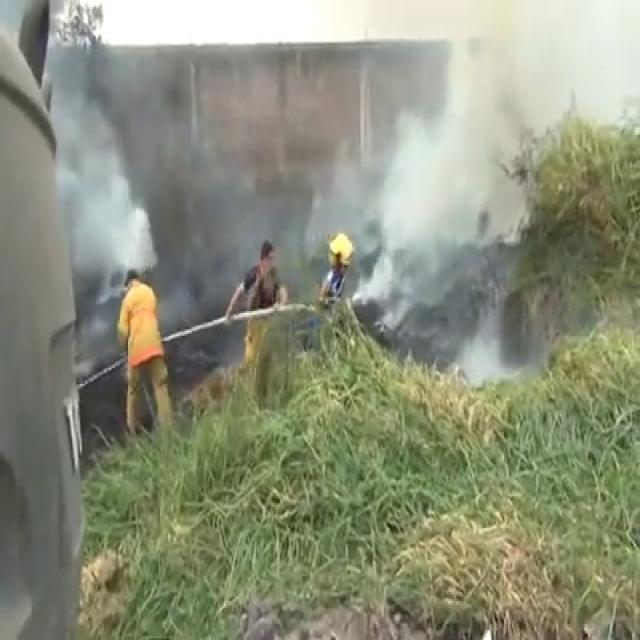Smoke: (312, 0, 637, 286), (41, 35, 155, 298)
